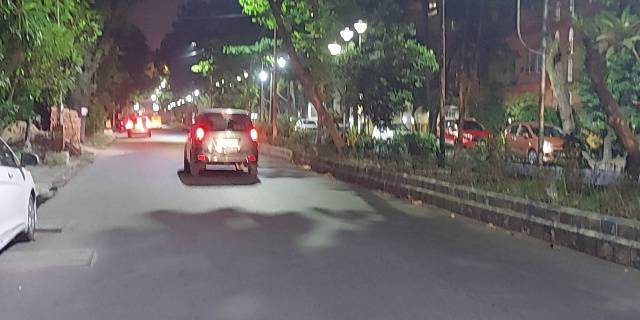Car: (182, 108, 259, 177)
